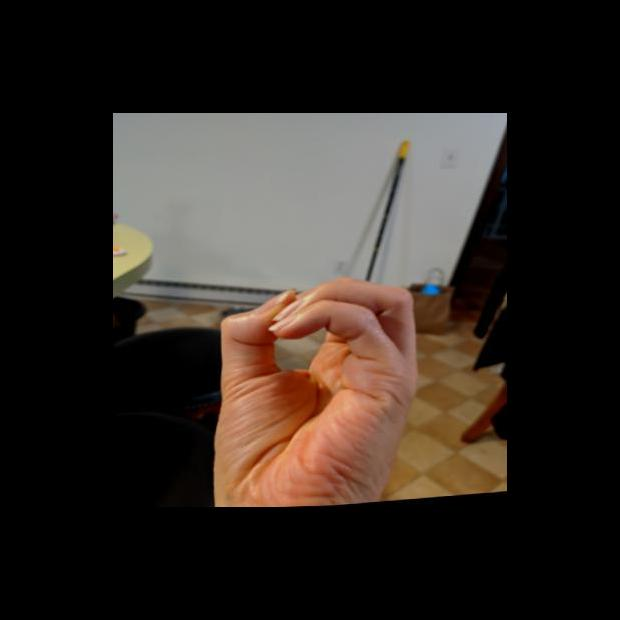N: (191, 268, 432, 506)
